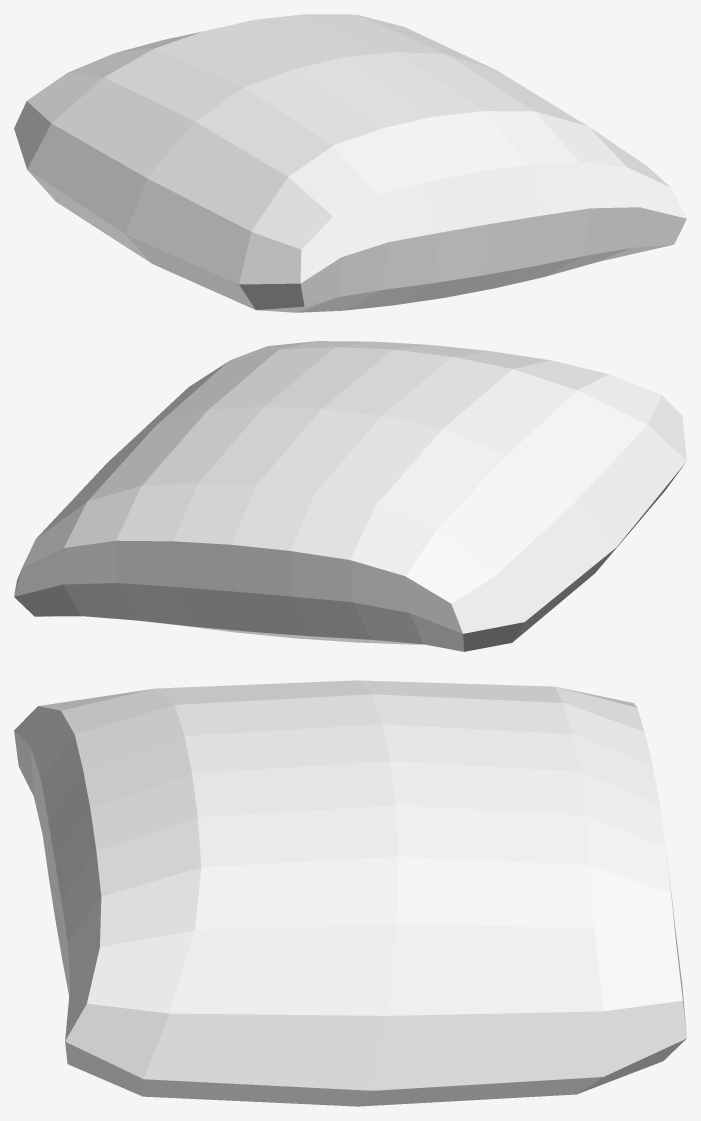
The model's file is Pillow_4.fbx.
3 renders of one model, top to bottom at view 1: azimuth 30°, elevation 25°; view 2: azimuth 150°, elevation 25°; view 3: azimuth 270°, elevation 25°, orthographic. The views are drawn at different scales.
Parts seen in each view (by area): view 1: Pillow_4; view 2: Pillow_4; view 3: Pillow_4.
Boxes of the visible parts, x1,y1,x2,y2 form: Pillow_4: [14, 14, 686, 312]; Pillow_4: [14, 341, 686, 651]; Pillow_4: [14, 680, 686, 1106].
Size of the model in its own units: 29.55 by 28.07 by 11.27.
